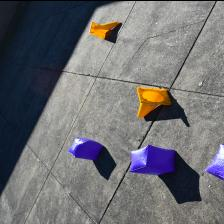cone: (136, 86, 172, 117), (88, 20, 120, 38)
cube: (130, 144, 176, 174), (68, 136, 104, 160), (204, 144, 224, 180)
